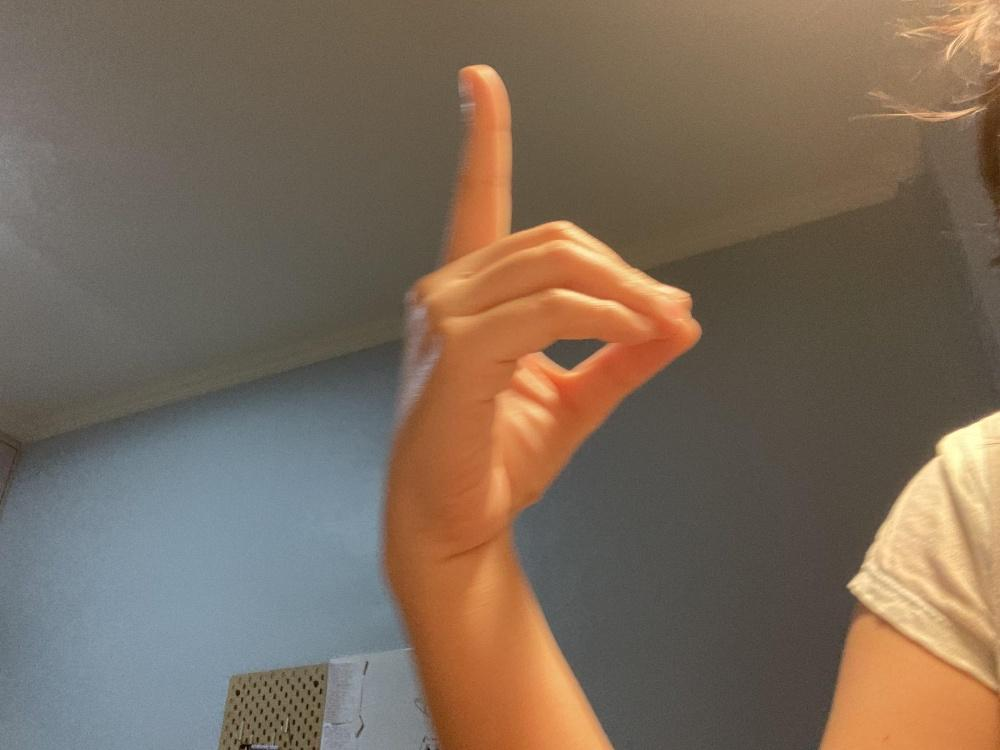d: (378, 62, 702, 560)
